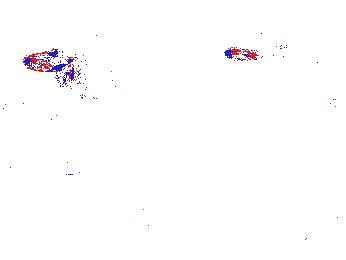X-ray fish: (55, 48, 123, 102)
red belly glassfish: (221, 41, 283, 63), (19, 51, 76, 73)
redtail glassfish: (196, 5, 274, 40), (290, 78, 339, 112), (306, 21, 346, 56)
